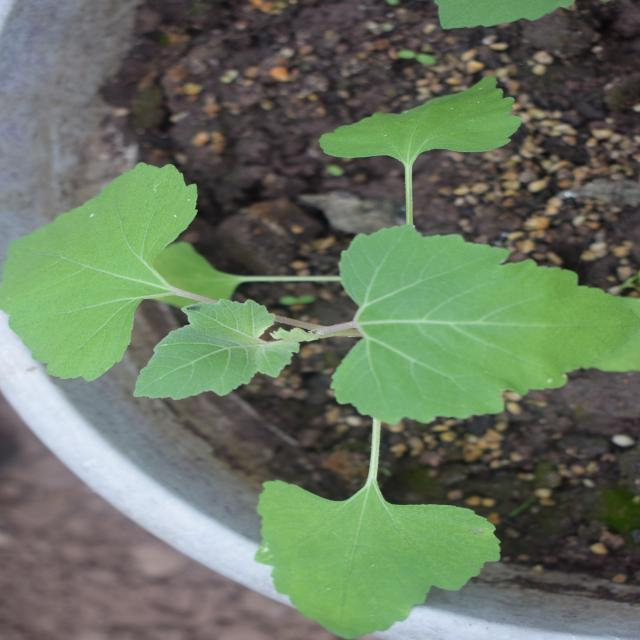cocklebur: (33, 36, 556, 552)
